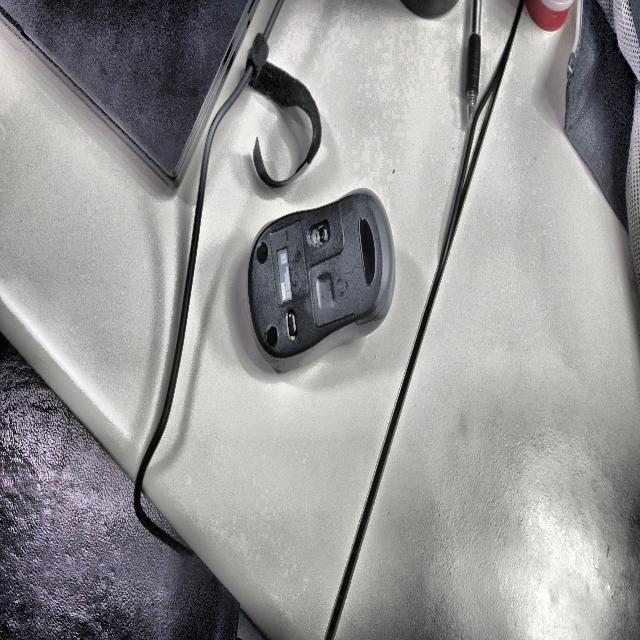Laptop: (0, 0, 258, 187)
MOUSE: (247, 190, 395, 371)
